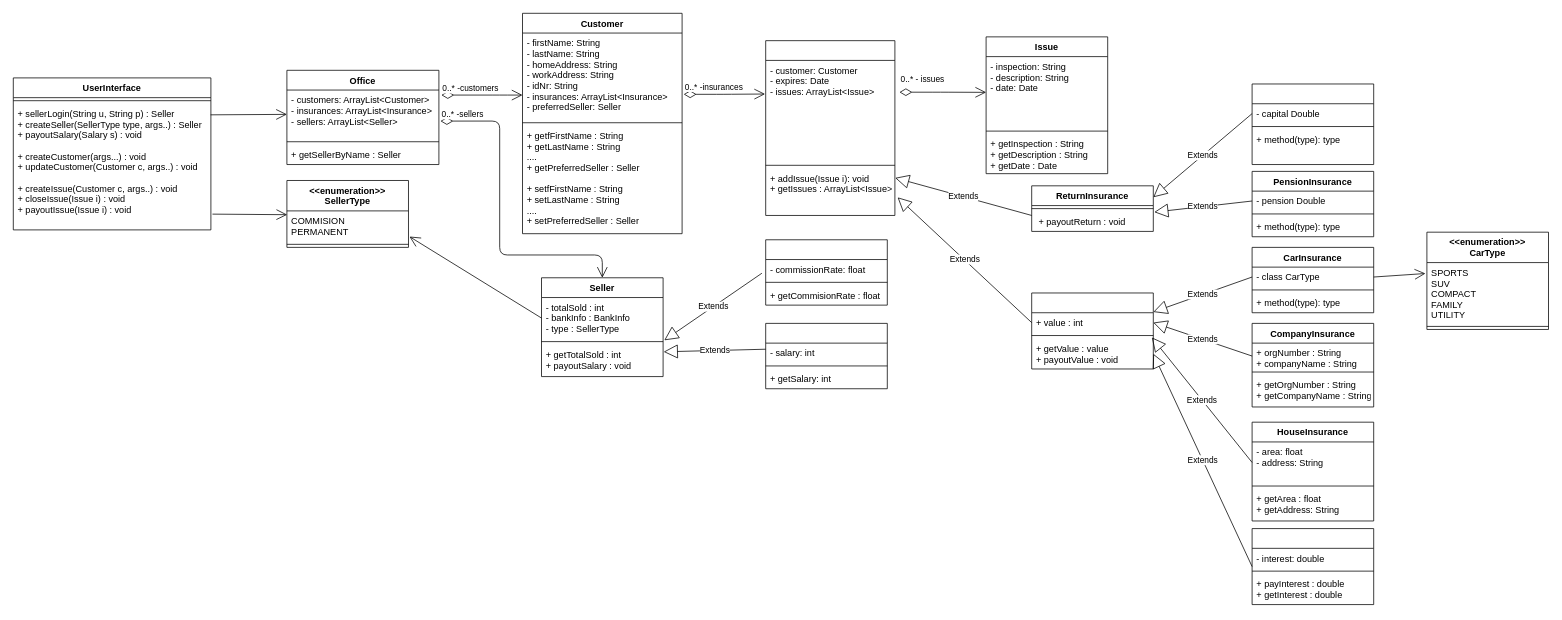
The diagram is 1562 pixels wide and 620 high, and some of its shapes have lost their labels. The shapes that lost their labels are listed below. From the top down, each one's box as (x1, y1, x2, y2) in pixels, then its label:
(765, 40, 895, 215): Insurance
(1251, 83, 1374, 165): CapitalInsurance
(765, 239, 887, 305): CommissonSeller
(1031, 292, 1153, 369): ObjectInsurance
(765, 323, 887, 389): PermanentSeller
(1251, 528, 1374, 605): LifeInsurance
